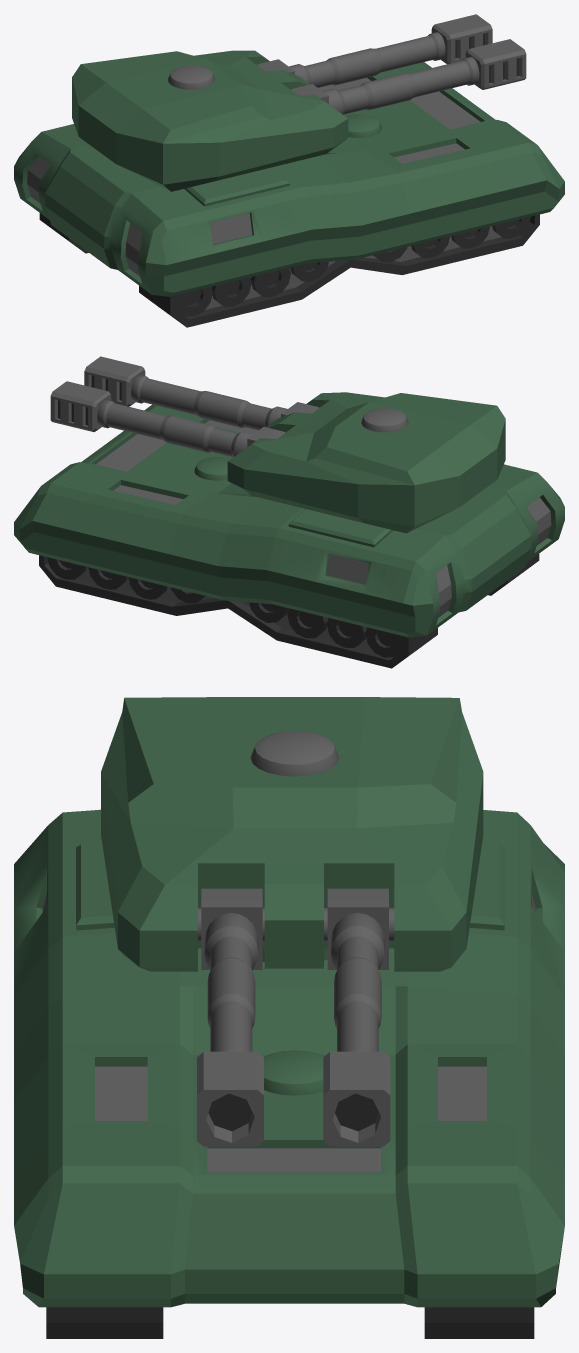
Rendered from Tank.fbx.
3 renders of one model, top to bottom at view 1: azimuth 30°, elevation 25°; view 2: azimuth 150°, elevation 25°; view 3: azimuth 270°, elevation 25°, orthographic. The views are drawn at different scales.
Parts seen in each view (by area): view 1: polySurface68; view 2: polySurface68; view 3: polySurface68.
Part boxes in pixels (x1,y1,x2,y2): polySurface68: [14, 14, 564, 327]; polySurface68: [14, 356, 564, 668]; polySurface68: [14, 697, 564, 1338].
Size of the model in its own units: 20.67 by 8.79 by 12.41.
